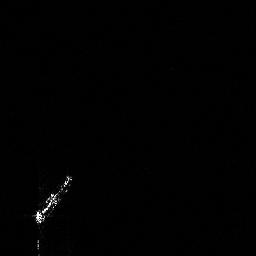ship: (33, 174, 73, 224)
